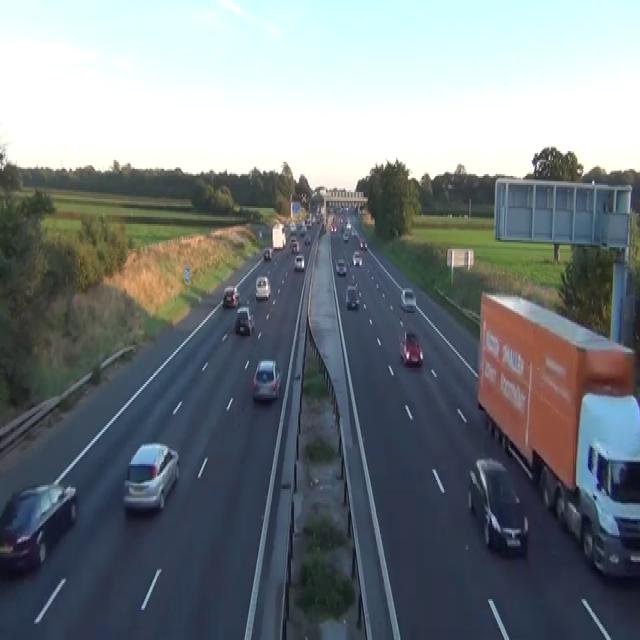Car: (539, 391, 639, 580), (0, 482, 77, 574), (467, 457, 528, 555), (122, 441, 179, 512), (252, 359, 281, 402), (399, 331, 423, 366), (235, 306, 254, 334), (222, 284, 240, 308), (400, 288, 416, 311), (345, 284, 359, 310), (255, 276, 270, 300), (335, 258, 346, 276), (352, 249, 362, 267), (294, 254, 304, 270), (290, 238, 299, 252), (263, 247, 272, 260), (359, 238, 367, 249), (299, 224, 306, 235), (289, 221, 296, 231), (343, 231, 349, 242), (330, 222, 336, 233), (320, 222, 326, 233), (283, 222, 289, 233), (345, 220, 351, 230), (305, 218, 311, 228), (290, 233, 296, 243), (313, 214, 320, 222), (304, 234, 310, 243), (351, 228, 357, 236), (339, 215, 343, 224), (258, 230, 262, 238)
Truck: (476, 290, 639, 580), (271, 222, 286, 249)
